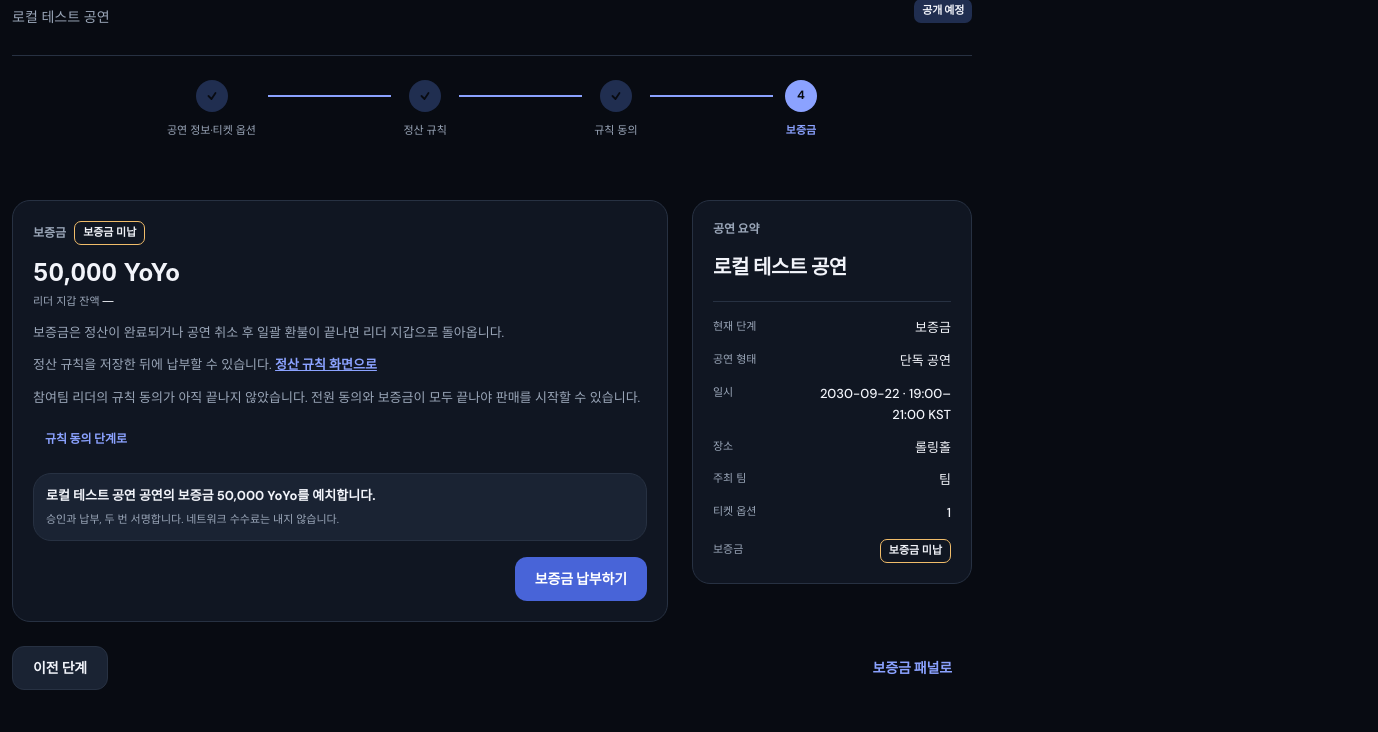
Test case: 보증금 확정 실패 경로 › 폴링 상한에 닿으면 다시 납부할 수 없게 잠근다
Click the button "보증금 납부하기" at (581, 579), box [515, 557, 647, 601]
(page scrolled)
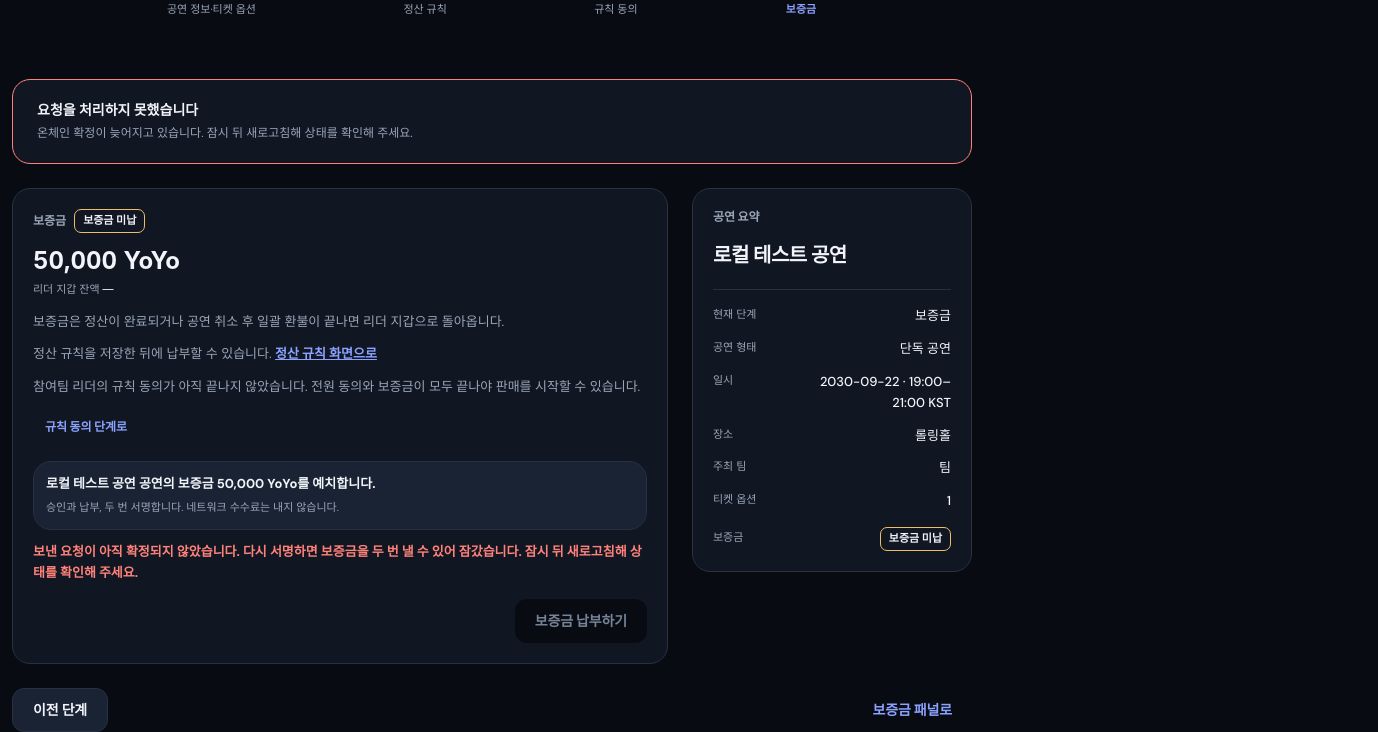
Expected: the text "다시 서명하면 보증금을 두 번 낼 수 있어" is shown, [33, 543, 642, 581]
Expected: the button "보증금 납부하기" is disabled, [515, 599, 647, 643]
